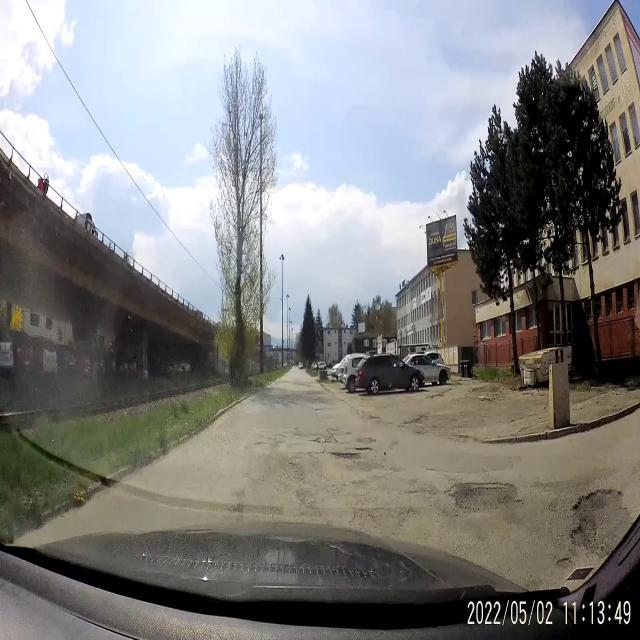Pothole: (568, 483, 636, 554), (446, 476, 526, 526), (399, 412, 434, 427), (404, 485, 438, 500), (310, 429, 338, 446), (330, 450, 362, 464), (554, 554, 575, 568), (354, 444, 374, 454), (292, 425, 305, 440), (365, 413, 383, 423), (275, 431, 288, 442), (252, 441, 268, 448), (314, 406, 326, 412)
